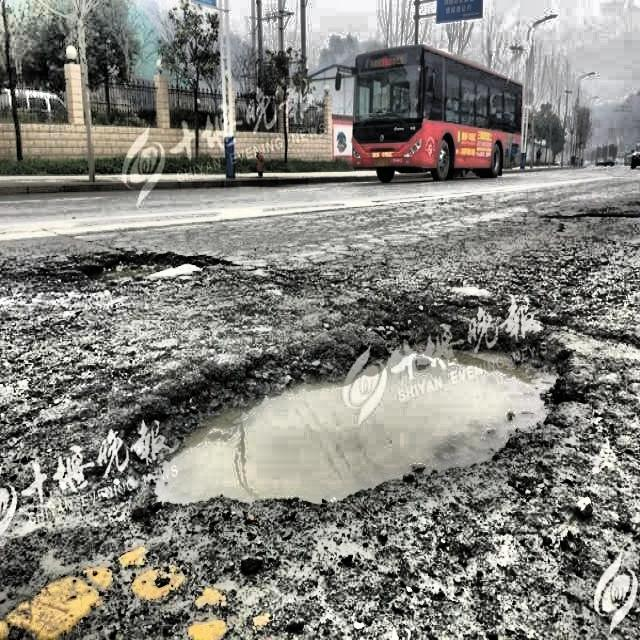buraco: (131, 322, 574, 528), (61, 240, 221, 285)
